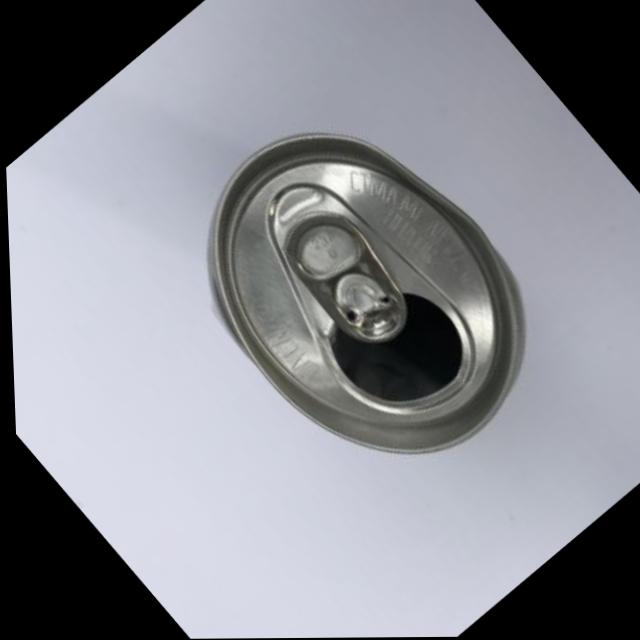metal: (90, 25, 605, 543)
